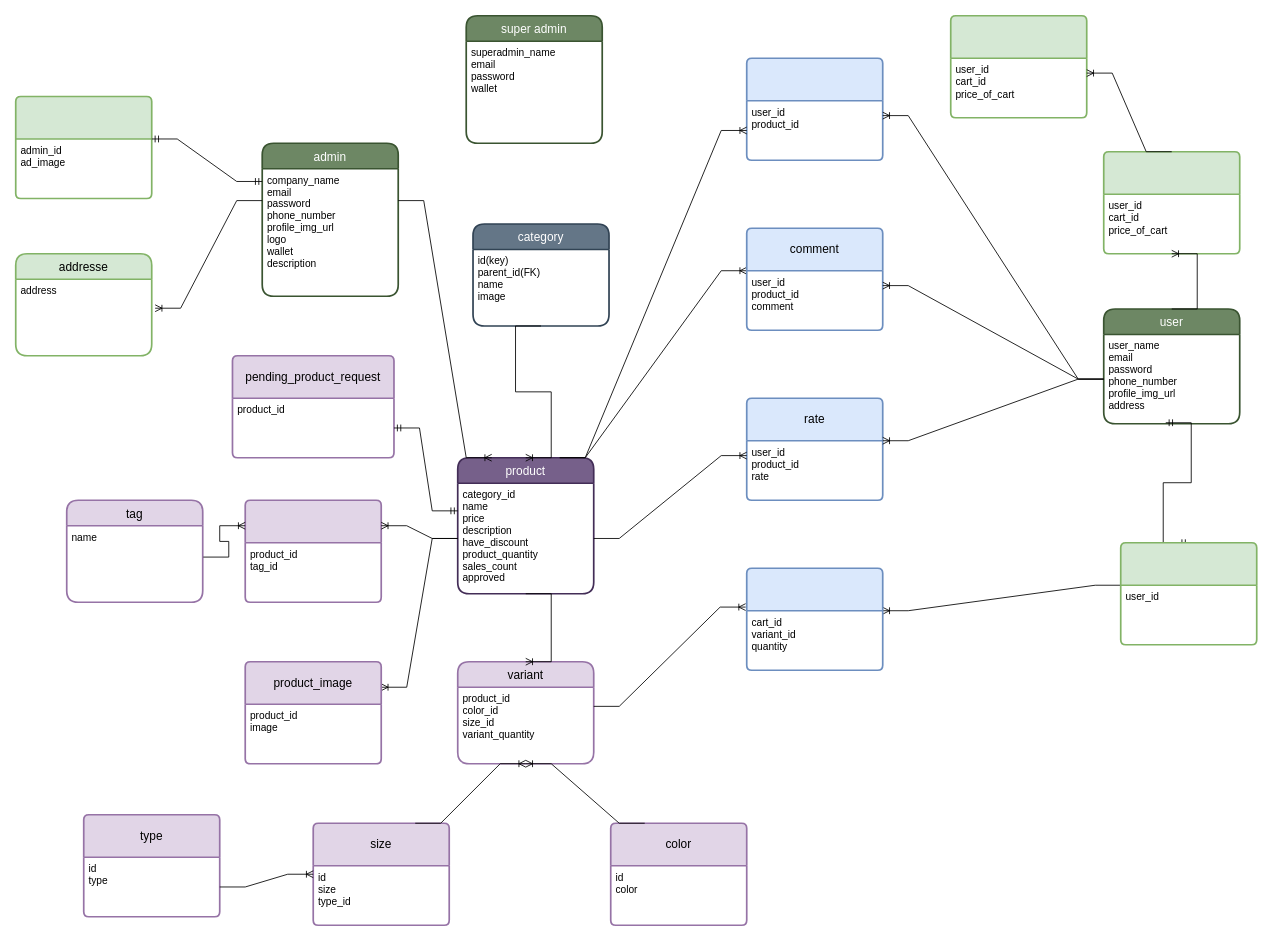
The diagram is 1272 pixels wide and 940 high, and some of its shapes have lost their labels. The box of each missing label's shape, as (x1, y1, x2, y2) in pixels:
ad: (14, 95, 152, 199)
carts: (1119, 541, 1257, 645)
favorite: (745, 57, 883, 161)
order: (1102, 150, 1240, 254)
order_item: (949, 14, 1087, 118)
product_tag: (244, 499, 382, 603)
variant_cart: (745, 567, 883, 671)
